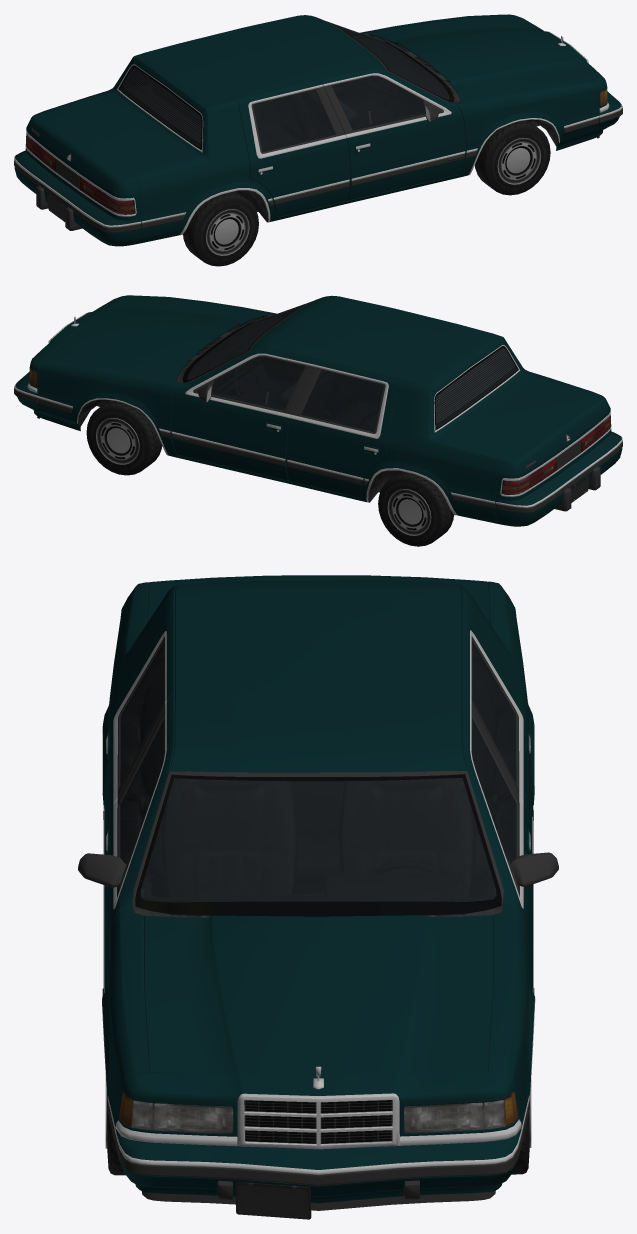
Rendered from car_luxury.glb.
The picture shows the model from 3 angles, top to bottom: view 1: azimuth 30°, elevation 25°; view 2: azimuth 150°, elevation 25°; view 3: azimuth 270°, elevation 25°; orthographic projection. The views are drawn at different scales.
Visible parts, largest first — view 1: Riverside88_Body_Riverside88_Bodymat_0, Riverside88_Interior_UCB_Interiors_2_0, Riverside88_bottom_UCB_BOTTOM_0, Riverside88_Hood_Riverside88_Bodymat_0, Riverside88_Trunk_door_Riverside88_Bodymat_0, Riverside88_WheelStock_FR_RB1c_Tire_1k_0, Riverside88_WheelStock_RR_RB1c_Tire_1k_0, Riverside88_Body_Glass_UCB_Lights_and_Glass_Transperent_0, Riverside88_Glass_Passenger_UCB_Lights_and_Glass_Transperent, Riverside88_Rear_window_UCB_Lights_and_Glass_Transperent_0, Riverside88_Bumper_rear_Riverside88_Bodymat_0, Riverside88_Windshield_UCB_Lights_and_Glass_Transperent_0 (+3 smaller); view 2: Riverside88_Body_Riverside88_Bodymat_0, Riverside88_Interior_UCB_Interiors_2_0, Riverside88_bottom_UCB_BOTTOM_0, Riverside88_Hood_Riverside88_Bodymat_0, Riverside88_Trunk_door_Riverside88_Bodymat_0, Riverside88_WheelStock_FL_RB1c_Tire_1k_0, Riverside88_WheelStock_FR_RB1c_Tire_1k_0, Riverside88_Body_Glass_UCB_Lights_and_Glass_Transperent_0, Riverside88_Glass_Driver_UCB_Lights_and_Glass_Transperent_0, Riverside88_Rear_window_UCB_Lights_and_Glass_Transperent_0, Riverside88_Bumper_rear_Riverside88_Bodymat_0, Riverside88_Windshield_UCB_Lights_and_Glass_Transperent_0 (+3 smaller); view 3: Riverside88_Body_Riverside88_Bodymat_0, Riverside88_Hood_Riverside88_Bodymat_0, Riverside88_Interior_UCB_Interiors_2_0, Riverside88_Windshield_UCB_Lights_and_Glass_Transperent_0, Riverside88_bottom_UCB_BOTTOM_0, Riverside88_Bumper_Front_Riverside88_Bodymat_0, Riverside88_Bumper_Front_inner_UCB_BOTTOM_0, Riverside88_Headlights_Glass_UCB_Lights_and_Glass_Transperen, Riverside88_Body_Glass_UCB_Lights_and_Glass_Transperent_0, Riverside88_Headlights_UCB_Lights_and_Glass_0, Riverside88_Trunk_door_Riverside88_Bodymat_0, Riverside88_Glass_Driver_UCB_Lights_and_Glass_Transperent_0 (+1 smaller).
Part boxes in pixels (<box>): Riverside88_Body_Riverside88_Bodymat_0: <box>25,14,607,243</box>; Riverside88_Interior_UCB_Interiors_2_0: <box>120,26,448,151</box>; Riverside88_bottom_UCB_BOTTOM_0: <box>25,17,609,235</box>; Riverside88_Hood_Riverside88_Bodymat_0: <box>373,16,592,98</box>; Riverside88_Trunk_door_Riverside88_Bodymat_0: <box>28,90,201,195</box>; Riverside88_WheelStock_FR_RB1c_Tire_1k_0: <box>475,120,550,195</box>; Riverside88_WheelStock_RR_RB1c_Tire_1k_0: <box>183,191,258,266</box>; Riverside88_Body_Glass_UCB_Lights_and_Glass_Transperent_0: <box>253,90,335,151</box>; Riverside88_Glass_Passenger_UCB_Lights_and_Glass_Transperent: <box>332,76,425,130</box>; Riverside88_Rear_window_UCB_Lights_and_Glass_Transperent_0: <box>120,67,201,148</box>; Riverside88_Bumper_rear_Riverside88_Bodymat_0: <box>14,150,141,246</box>; Riverside88_Windshield_UCB_Lights_and_Glass_Transperent_0: <box>326,21,449,99</box>; Riverside88_Body_Riverside88_Bodymat_0: <box>29,295,611,523</box>; Riverside88_Interior_UCB_Interiors_2_0: <box>188,307,516,431</box>; Riverside88_bottom_UCB_BOTTOM_0: <box>27,297,611,515</box>; Riverside88_Hood_Riverside88_Bodymat_0: <box>45,297,263,379</box>; Riverside88_Trunk_door_Riverside88_Bodymat_0: <box>435,371,608,475</box>; Riverside88_WheelStock_FL_RB1c_Tire_1k_0: <box>86,400,162,475</box>; Riverside88_WheelStock_FR_RB1c_Tire_1k_0: <box>378,471,453,546</box>; Riverside88_Body_Glass_UCB_Lights_and_Glass_Transperent_0: <box>301,370,383,432</box>; Riverside88_Glass_Driver_UCB_Lights_and_Glass_Transperent_0: <box>211,357,305,410</box>; Riverside88_Rear_window_UCB_Lights_and_Glass_Transperent_0: <box>435,348,517,428</box>; Riverside88_Bumper_rear_Riverside88_Bodymat_0: <box>495,431,622,526</box>; Riverside88_Windshield_UCB_Lights_and_Glass_Transperent_0: <box>187,301,312,379</box>; Riverside88_Body_Riverside88_Bodymat_0: <box>102,580,534,1136</box>; Riverside88_Hood_Riverside88_Bodymat_0: <box>144,915,492,1074</box>; Riverside88_Interior_UCB_Interiors_2_0: <box>121,643,515,901</box>; Riverside88_Windshield_UCB_Lights_and_Glass_Transperent_0: <box>140,778,496,902</box>; Riverside88_bottom_UCB_BOTTOM_0: <box>78,630,558,1149</box>; Riverside88_Bumper_Front_Riverside88_Bodymat_0: <box>116,1129,521,1203</box>; Riverside88_Bumper_Front_inner_UCB_BOTTOM_0: <box>115,1131,521,1219</box>; Riverside88_Headlights_Glass_UCB_Lights_and_Glass_Transperen: <box>119,1091,517,1133</box>; Riverside88_Body_Glass_UCB_Lights_and_Glass_Transperent_0: <box>120,641,516,784</box>; Riverside88_Headlights_UCB_Lights_and_Glass_0: <box>132,1100,505,1132</box>; Riverside88_Trunk_door_Riverside88_Bodymat_0: <box>147,575,489,622</box>; Riverside88_Glass_Driver_UCB_Lights_and_Glass_Transperent_0: <box>472,718,516,863</box>.
Size of the model in its own units: 4.91 by 1.32 by 1.91.
6 materials, 5 textured.
